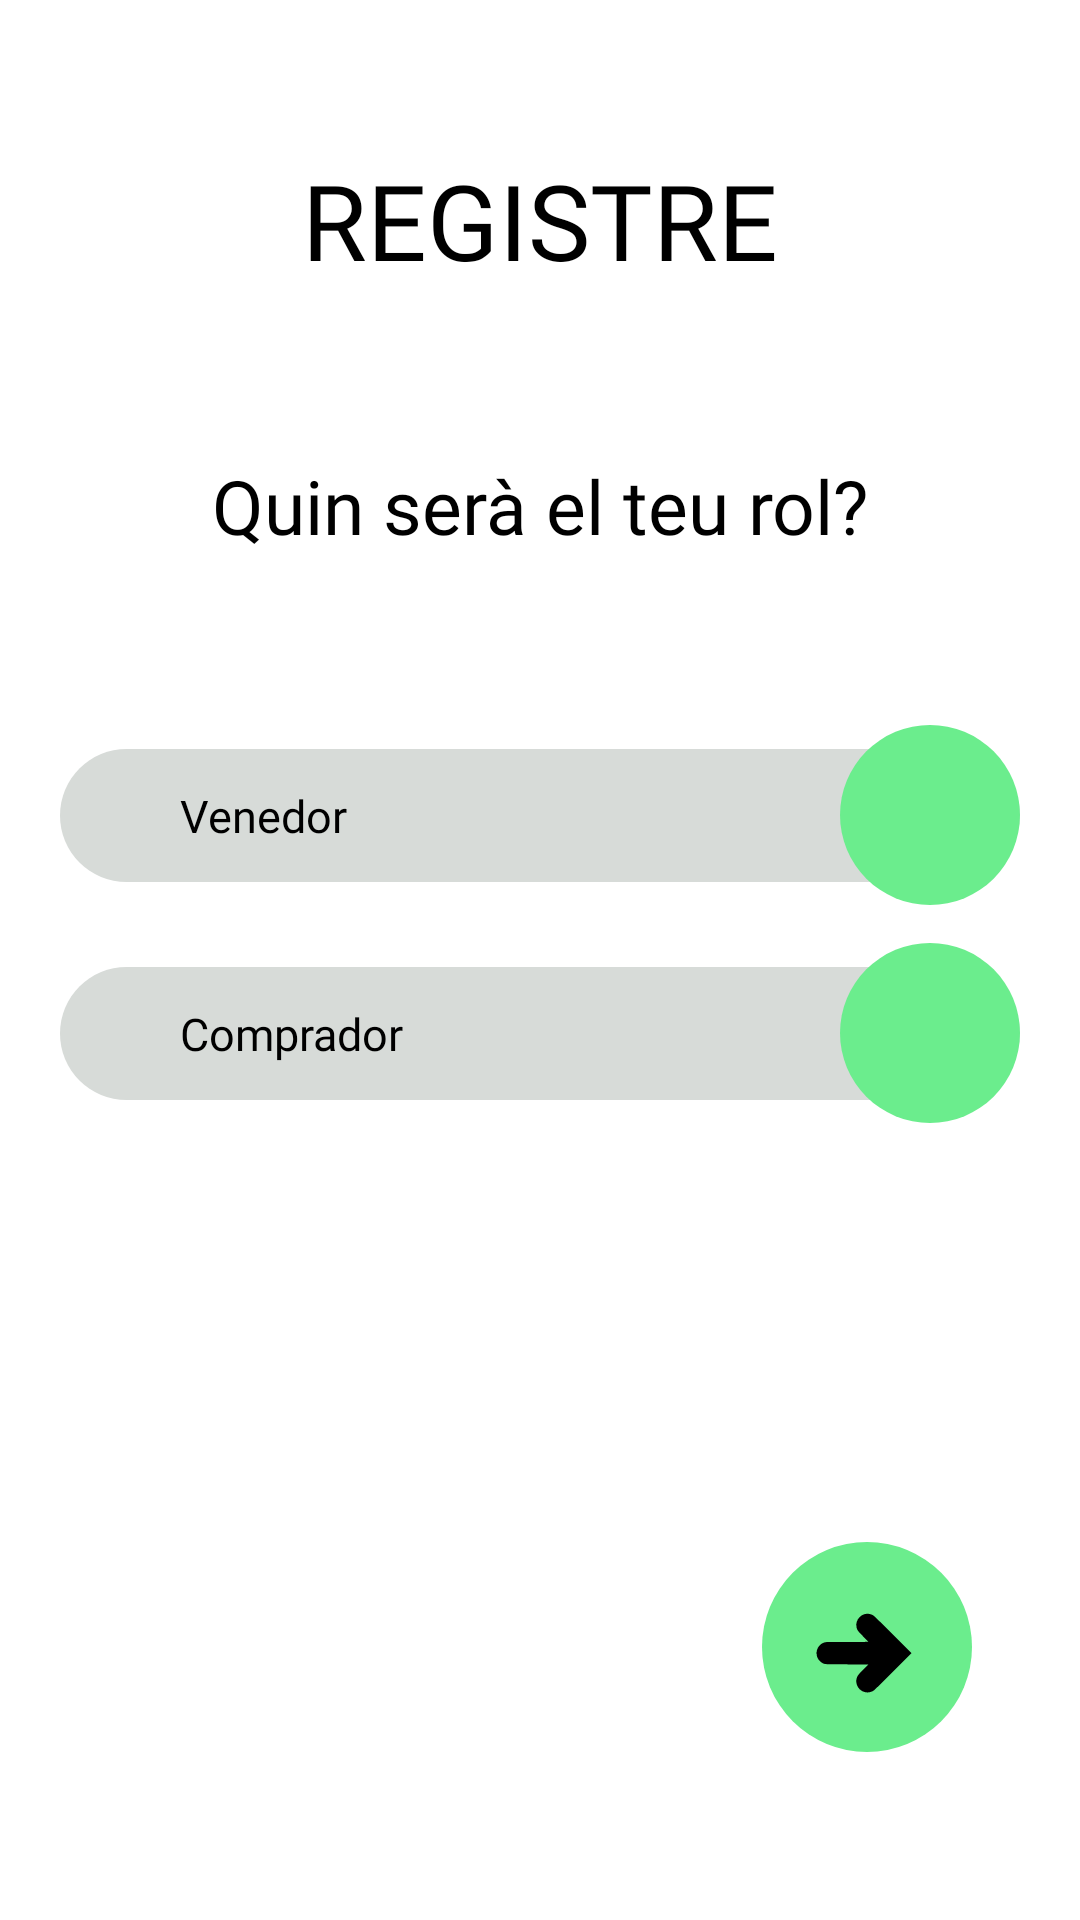

Where icons sit on this 1080px x 1920px app screen, as Rect(x1, y1, x2, y2):
next page arrow: Rect(762, 1542, 972, 1752)
